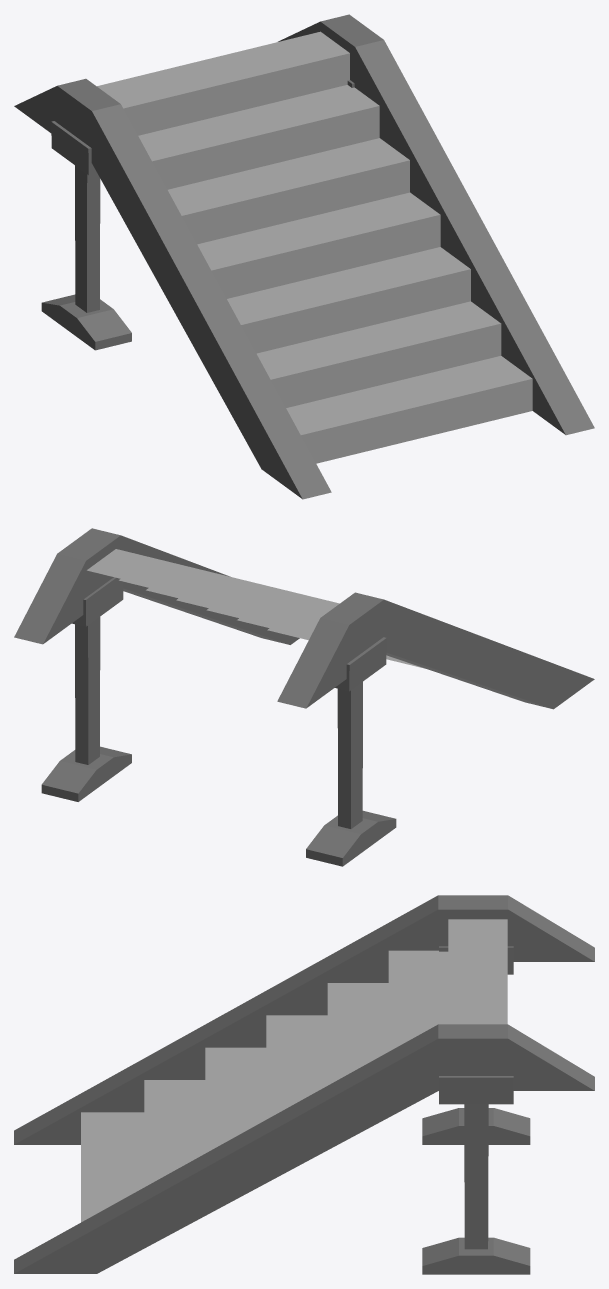
Rendered from Stairs.glb.
The picture shows the model from 3 angles, top to bottom: view 1: azimuth 30°, elevation 25°; view 2: azimuth 150°, elevation 25°; view 3: azimuth 270°, elevation 25°; orthographic projection.
Parts seen in each view (by area): view 1: Stairs; view 2: Stairs; view 3: Stairs.
Part boxes in pixels (x1,y1,x2,y2): Stairs: [14, 14, 594, 499]; Stairs: [14, 528, 594, 866]; Stairs: [14, 895, 594, 1274].
Bounding box in the file's own units: 1.87 × 1.39 × 3.11.
Materials: 1 (1 with a texture image).
